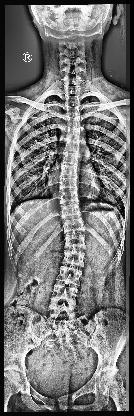Vertebrae: (56, 265, 84, 287), (50, 284, 78, 304), (49, 303, 79, 321), (62, 249, 86, 267), (63, 233, 87, 250), (62, 219, 87, 233), (59, 191, 81, 205), (63, 152, 83, 166), (61, 205, 81, 219), (66, 128, 83, 142), (66, 139, 83, 153), (60, 178, 79, 190), (60, 166, 78, 178), (66, 118, 83, 130), (67, 106, 81, 119)
